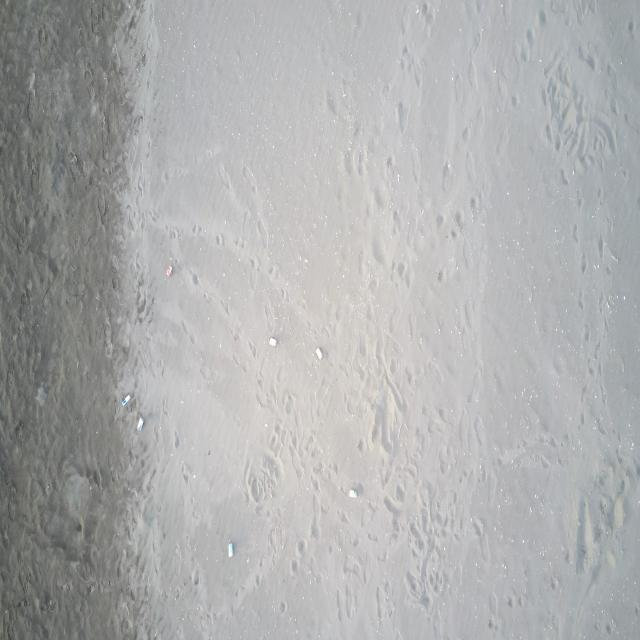tin-and-aluminum-cans: (120, 393, 132, 407), (314, 347, 324, 362), (136, 415, 144, 433), (268, 334, 277, 348), (228, 541, 234, 560), (348, 488, 357, 500), (167, 266, 173, 279)
